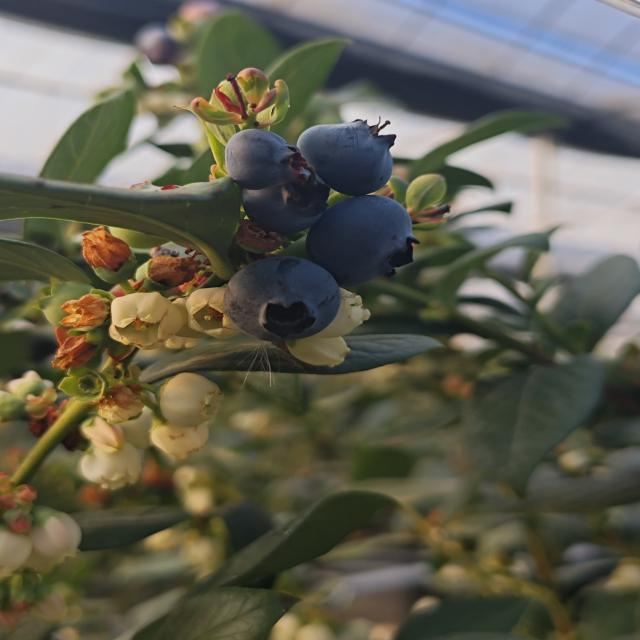ripe: (221, 254, 344, 344), (304, 194, 421, 288), (295, 117, 399, 197), (232, 174, 334, 232), (206, 125, 299, 186)
